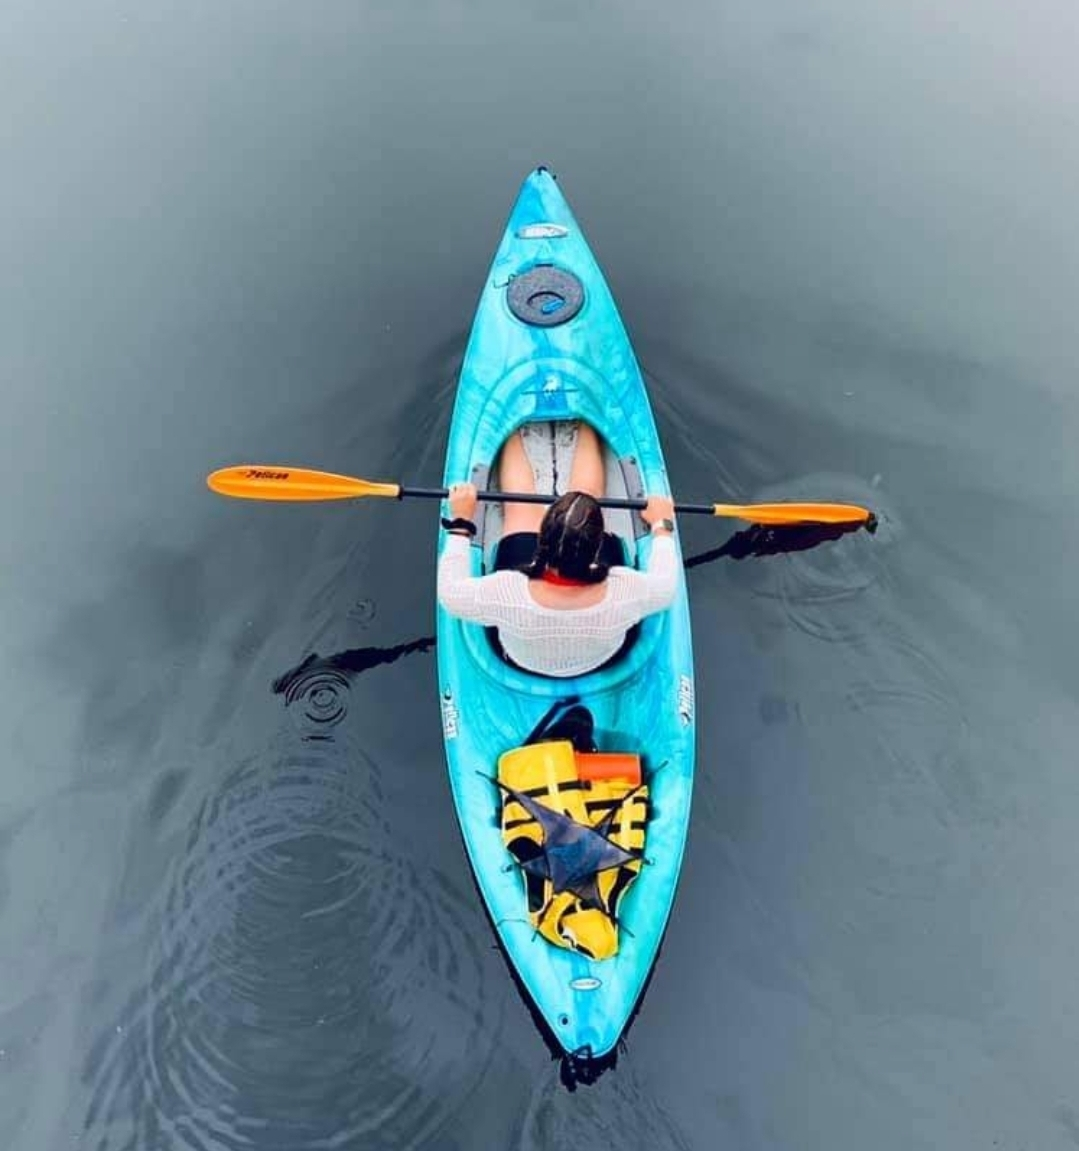kayaker: (199, 163, 883, 1096)
